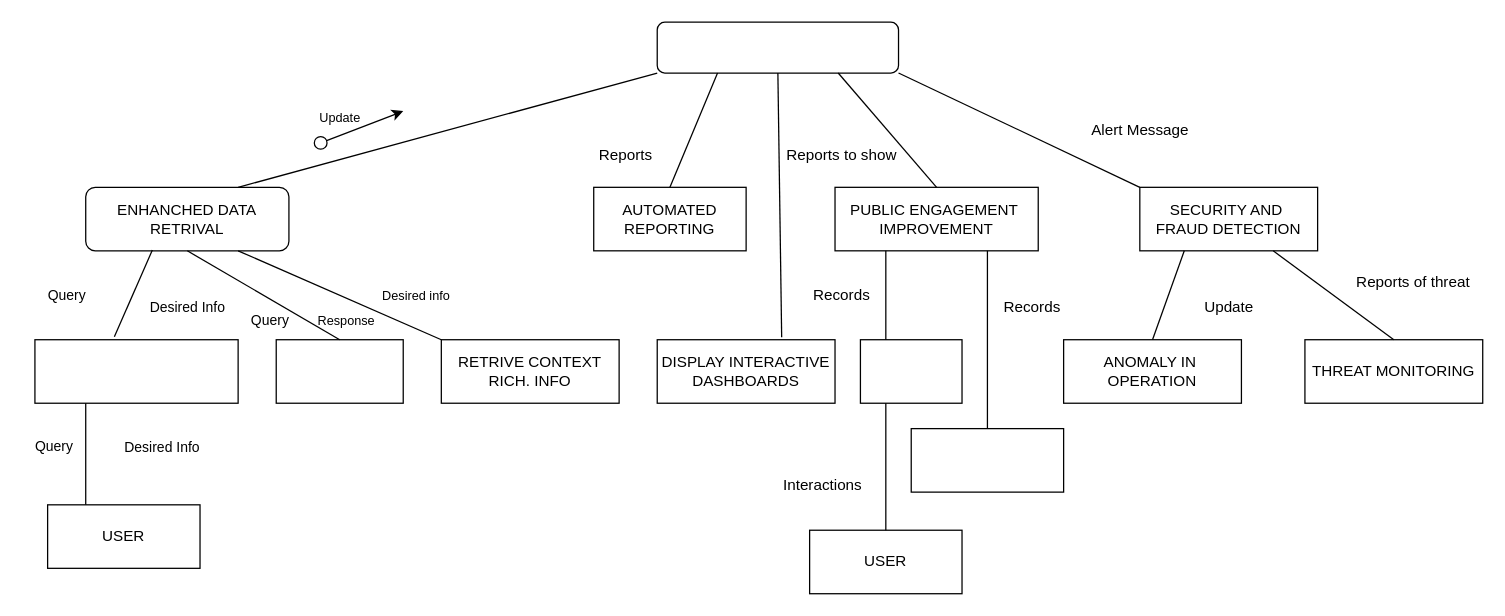
Some shapes in this 1505 by 616 pixel diagram are drawn without their labels. The shapes that lost their labels are listed below. From the top down, each one's centre as x and y in pixels, then its label:
(x=777, y=47): MANAGE AI DRIVEN WEBSITE INTERACTION
(x=136, y=370): NATURAL LANGUAGE QUERY PROCESSING
(x=339, y=370): RAG SYSTEM
(x=910, y=370): CHATBOTS
(x=987, y=459): SENTIMENT ANALYSIS
